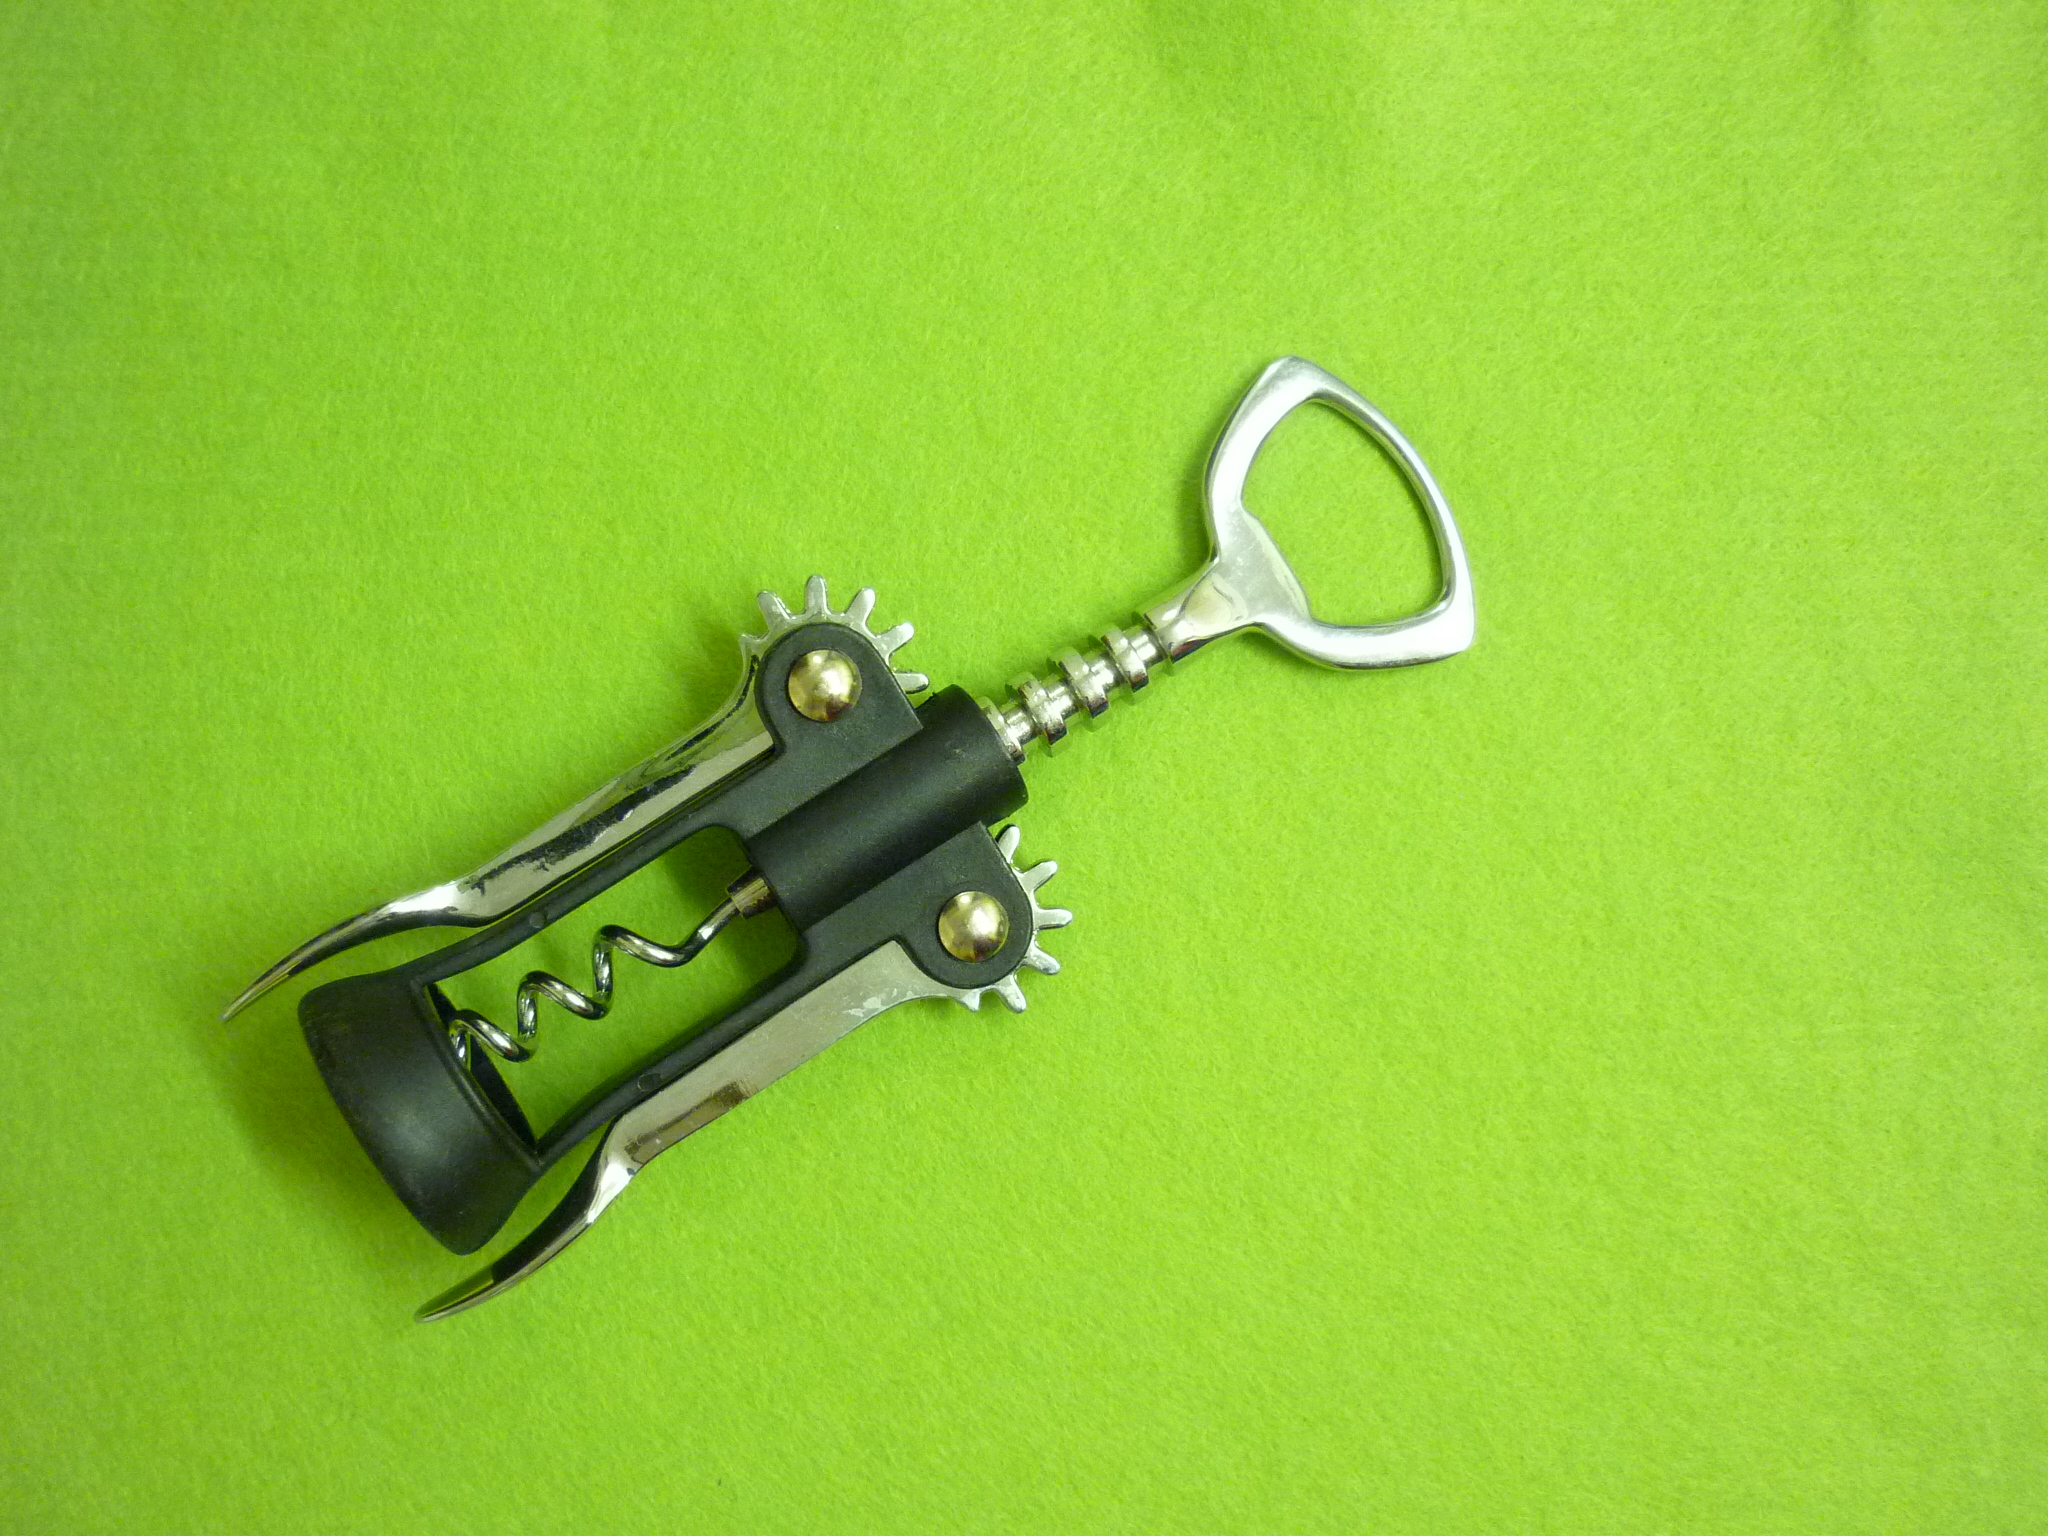bottleopener: (219, 357, 1480, 1326)
